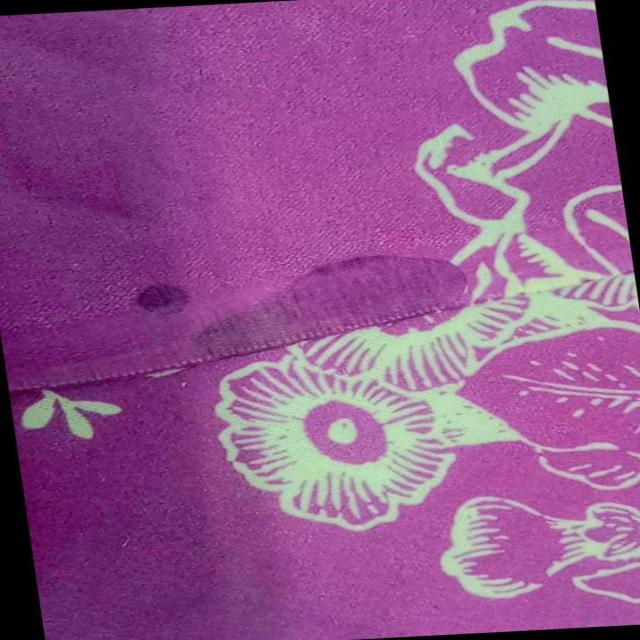stain: (117, 248, 487, 366)
